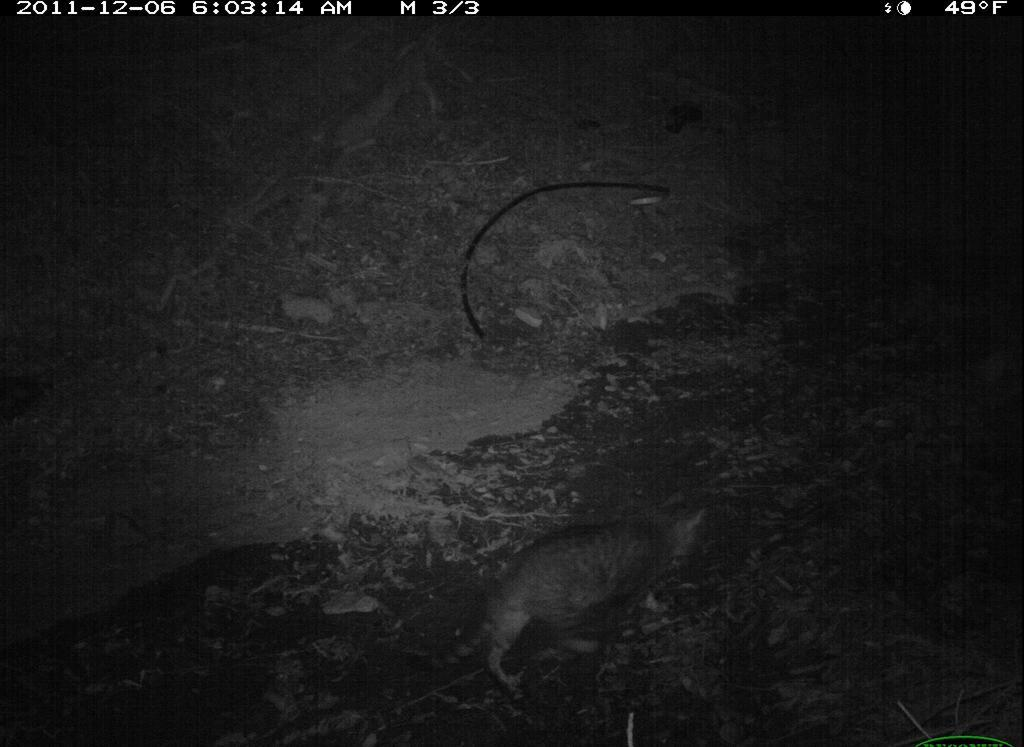cat: (459, 501, 715, 679)
